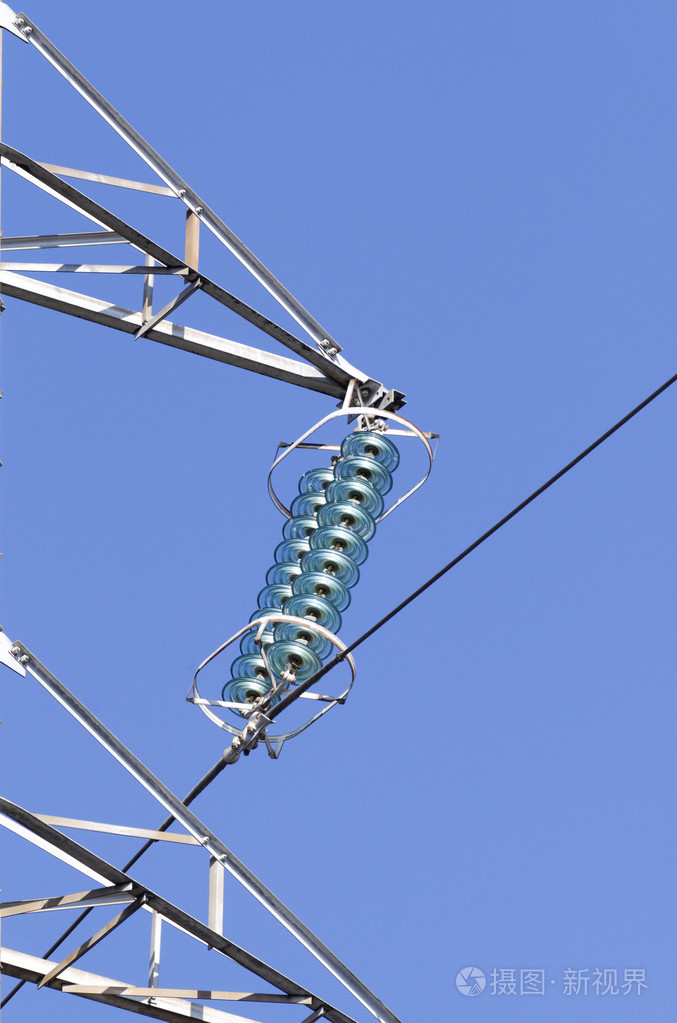insulator: (266, 431, 396, 683), (221, 469, 336, 714)
